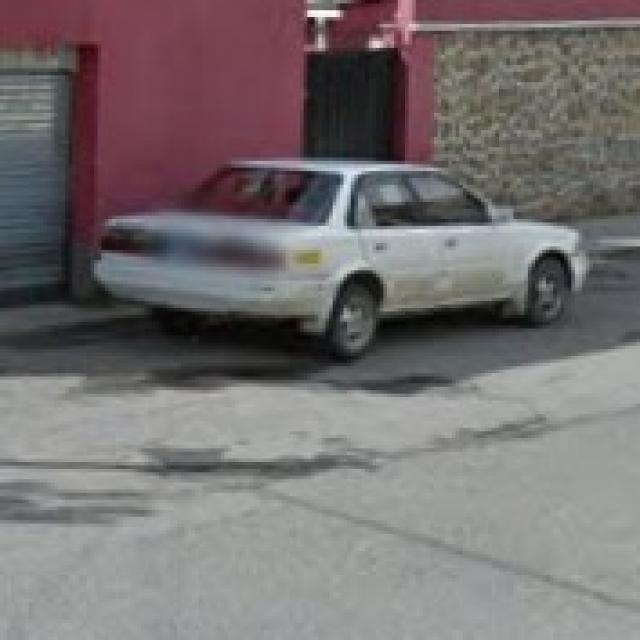Car: (93, 150, 584, 340)
